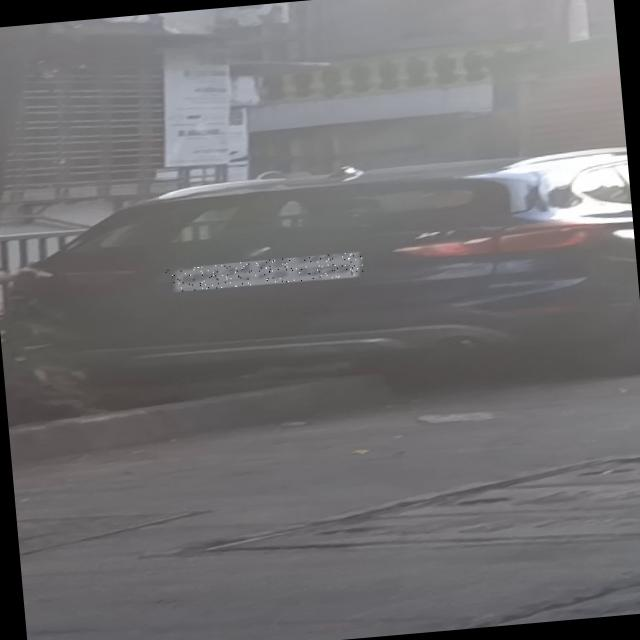Plate: (166, 252, 364, 293)
